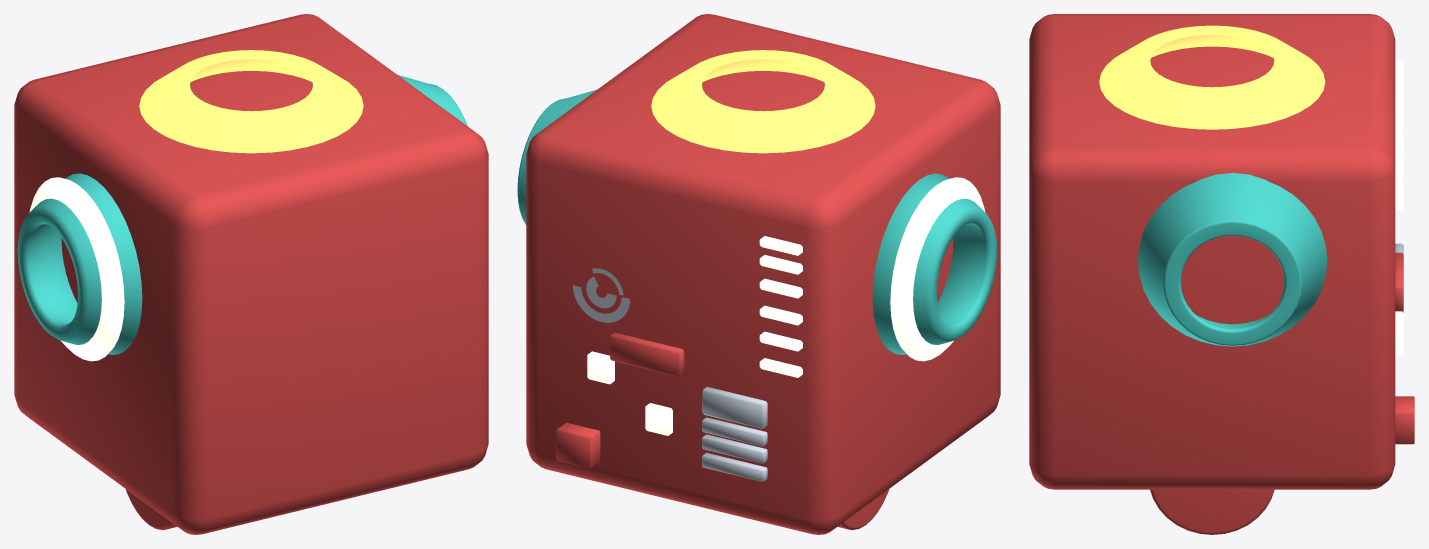
File: ToyRobotBody.fbx
3 renders of one model, left to right at view 1: azimuth 30°, elevation 25°; view 2: azimuth 150°, elevation 25°; view 3: azimuth 270°, elevation 25°, orthographic.
Visible parts, largest first — view 1: Arm_base_2; view 2: Arm_base_2; view 3: Arm_base_2.
Boxes of the visible parts, left/top/right/bottom form: Arm_base_2: left=14, top=14, right=488, bottom=534; Arm_base_2: left=517, top=14, right=1000, bottom=534; Arm_base_2: left=1029, top=14, right=1414, bottom=534.
Size of the model in its own units: 1089 by 1074 by 895.
